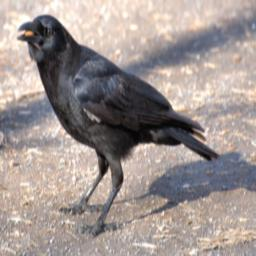Crow: (16, 12, 220, 238)
